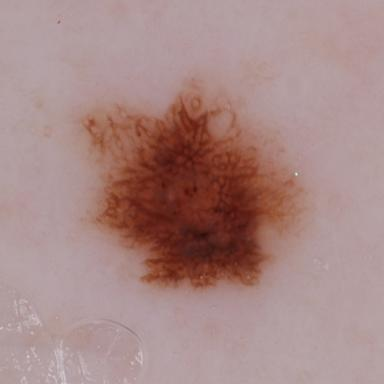nevus: (82, 83, 307, 287)
